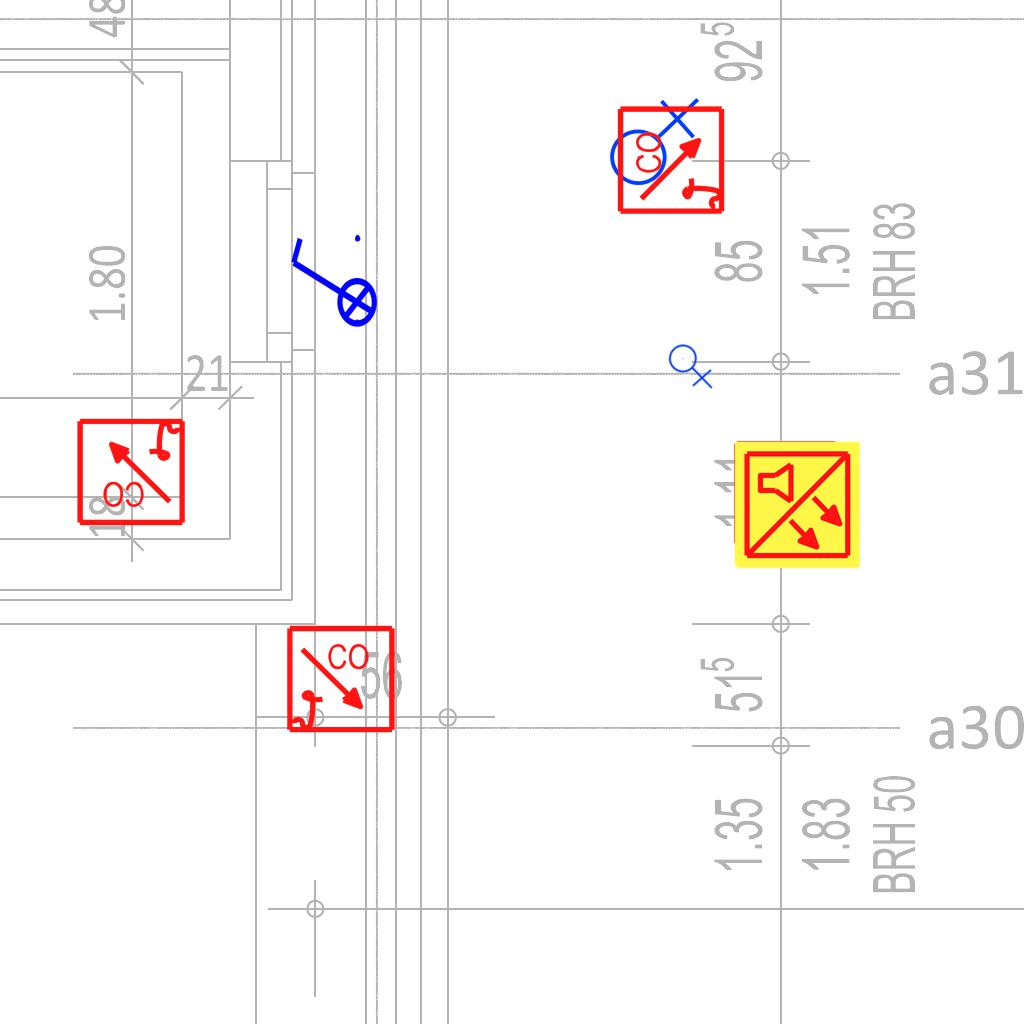Ausschalter_beleuchtet: (283, 229, 379, 341)
Elektroanschluss_allgemein_230V_Geraeteanschlussdose_230V: (601, 93, 700, 187), (668, 340, 715, 389)
OKW_Multisensormelder_(Kombination_optischer_Rauch-Kahlenmonoxid_Waerme-Melder): (731, 439, 863, 571)
ROA_Rauchmelder_optisch_mit_Signalgeber_(Sockelsirene): (74, 414, 187, 527), (285, 624, 398, 737), (616, 103, 729, 216)
